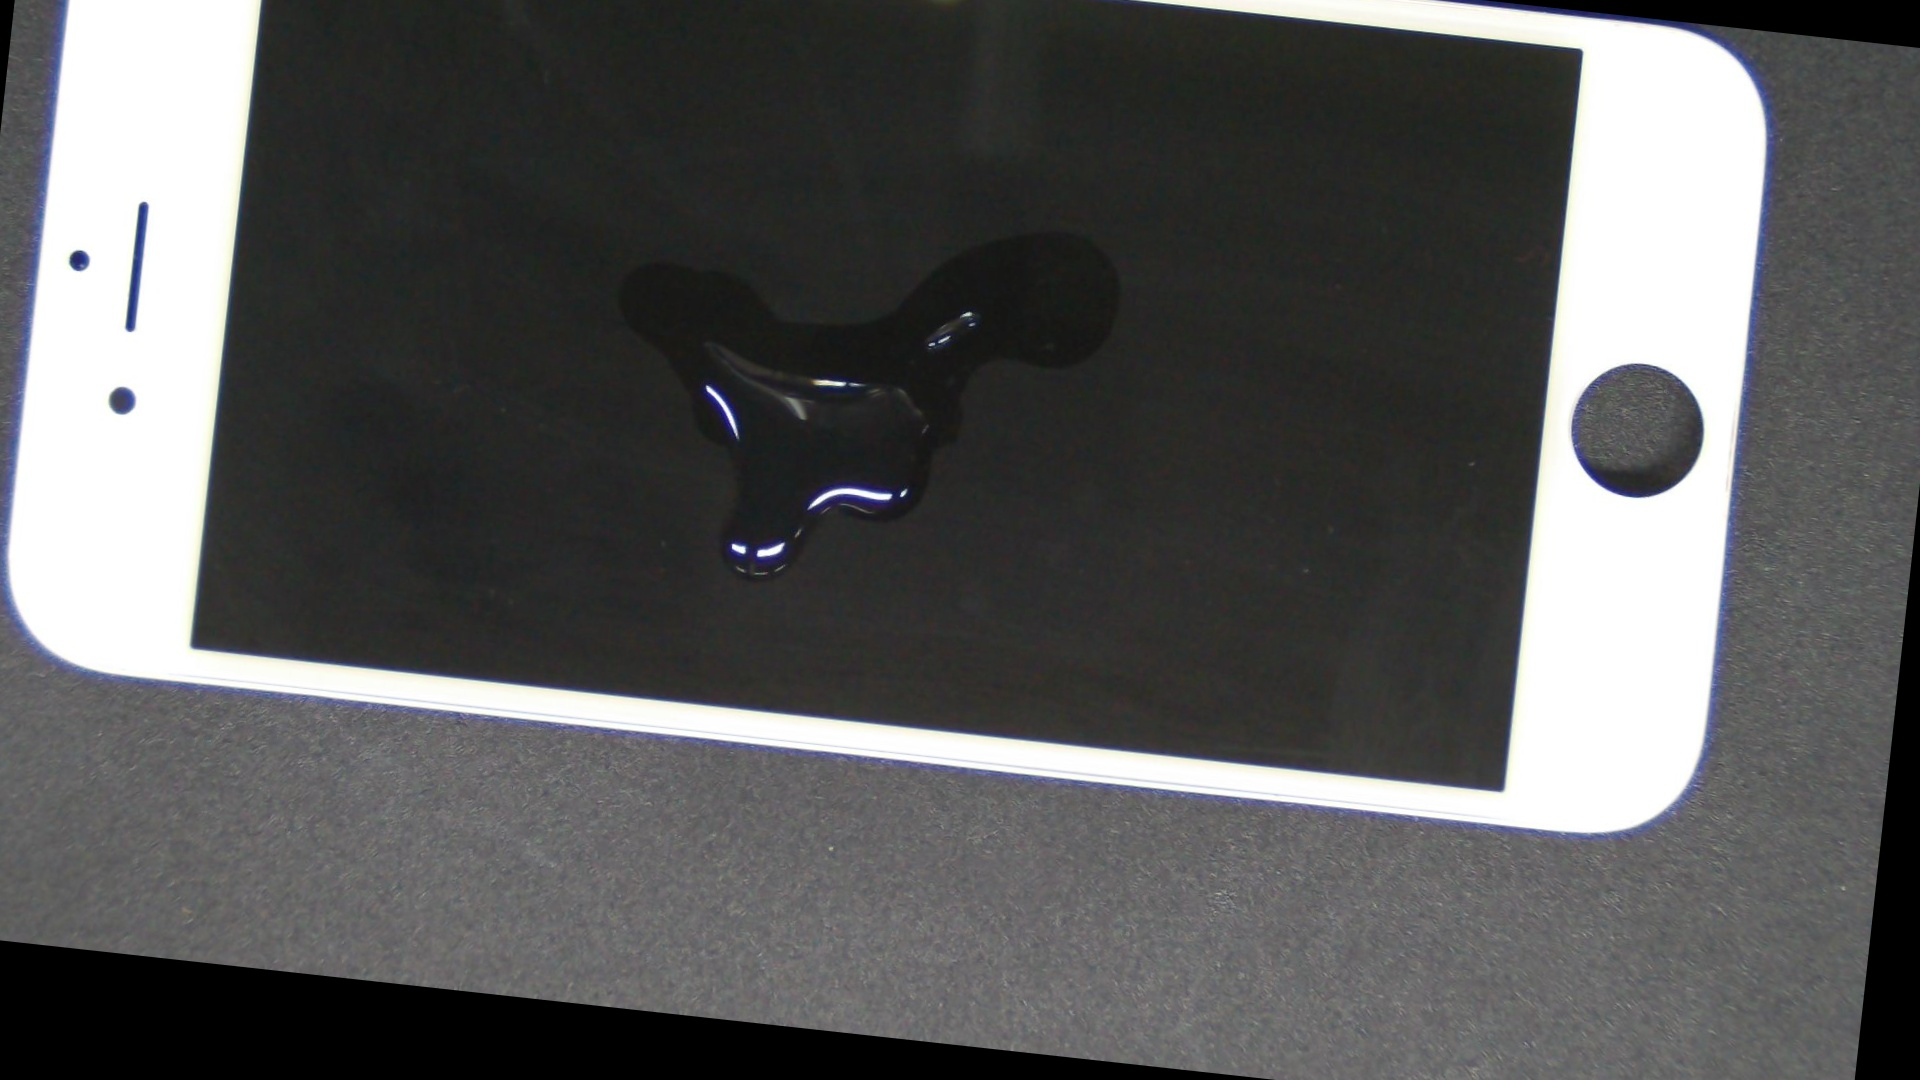oil: (517, 36, 1604, 425)
